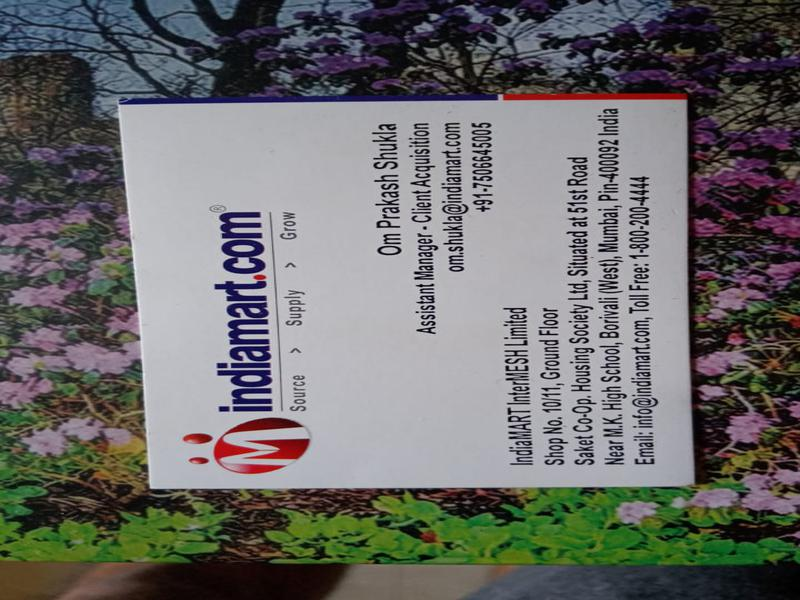card: (114, 90, 709, 499)
